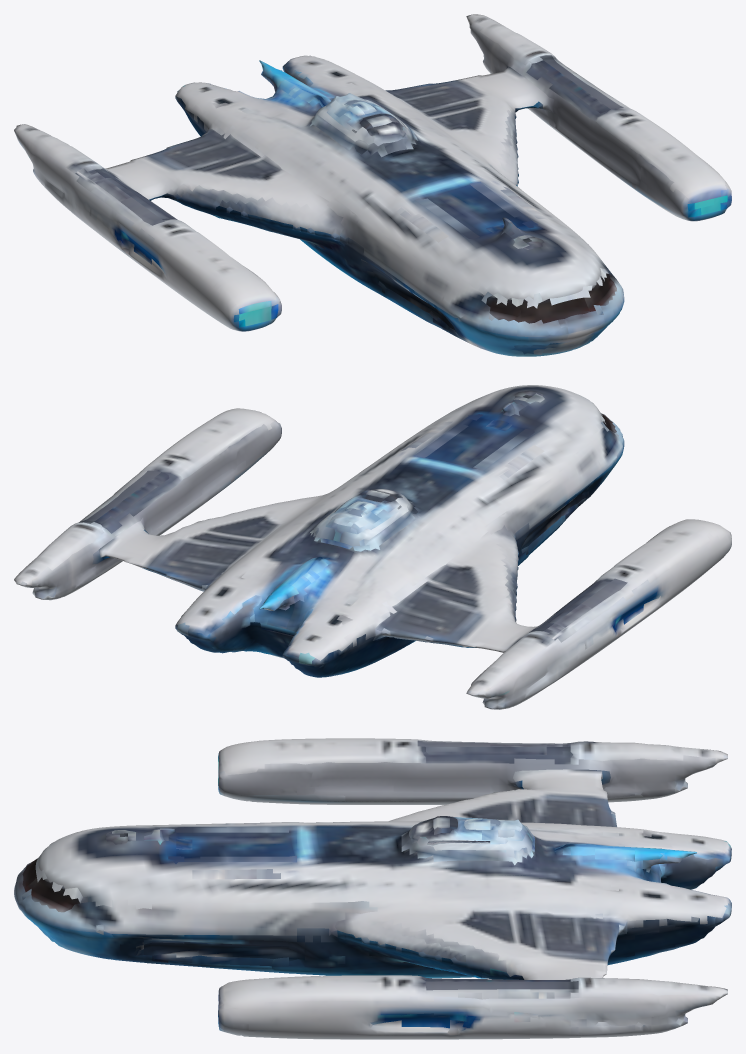
Rendered from alliance_cruiser.remesh.glb.
3 renders of one model, top to bottom at view 1: azimuth 30°, elevation 25°; view 2: azimuth 150°, elevation 25°; view 3: azimuth 270°, elevation 25°, orthographic. The views are drawn at different scales.
Parts seen in each view (by area): view 1: model; view 2: model; view 3: model.
Part boxes in pixels (x1,y1,x2,y2): model: (14,14,731,356); model: (14,385,731,709); model: (14,738,731,1039).
Size of the model in its own units: 1.64 by 0.3859 by 1.88.
1 material, 1 textured.
